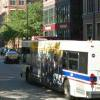Bus: (24, 34, 100, 97)
